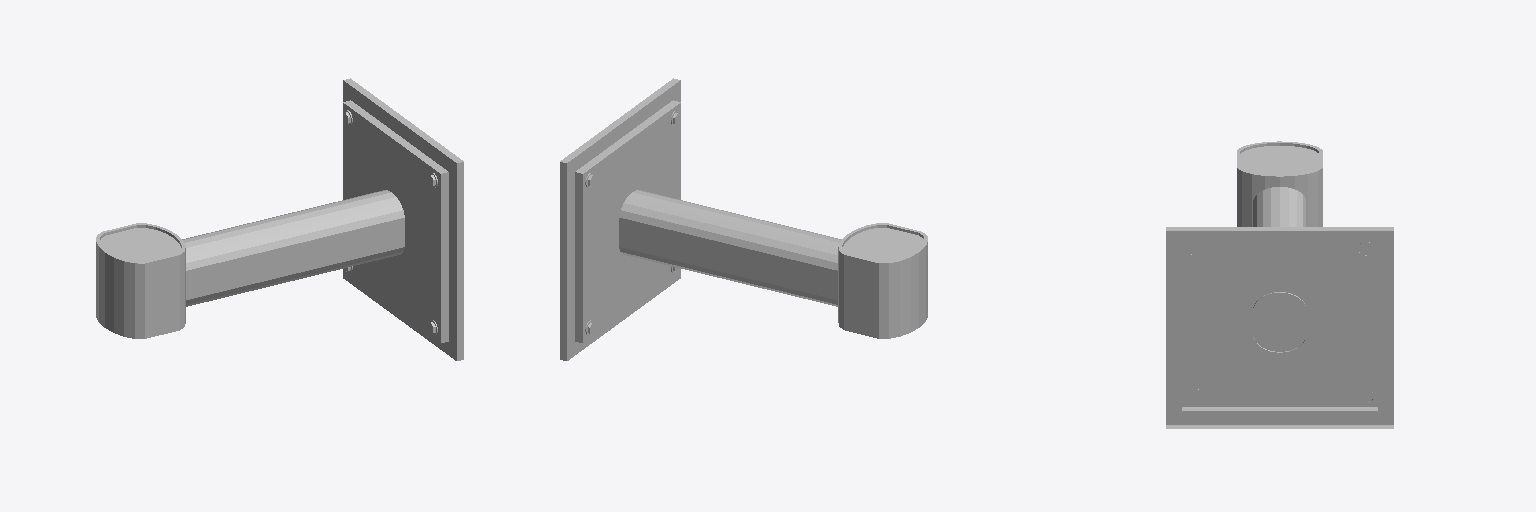
Rendered from Stand.obj.
3 views of the same model, side by side, from view 1: azimuth 30°, elevation 25°; view 2: azimuth 150°, elevation 25°; view 3: azimuth 270°, elevation 25° (orthographic).
Visible parts, largest first — view 1: Stand; view 2: Stand; view 3: Stand.
Part boxes in pixels (bbox=[...]): Stand: bbox=[96, 78, 463, 360]; Stand: bbox=[560, 78, 927, 360]; Stand: bbox=[1166, 141, 1393, 428].
Size of the model in its own units: 50.39 by 31.51 by 32.8.